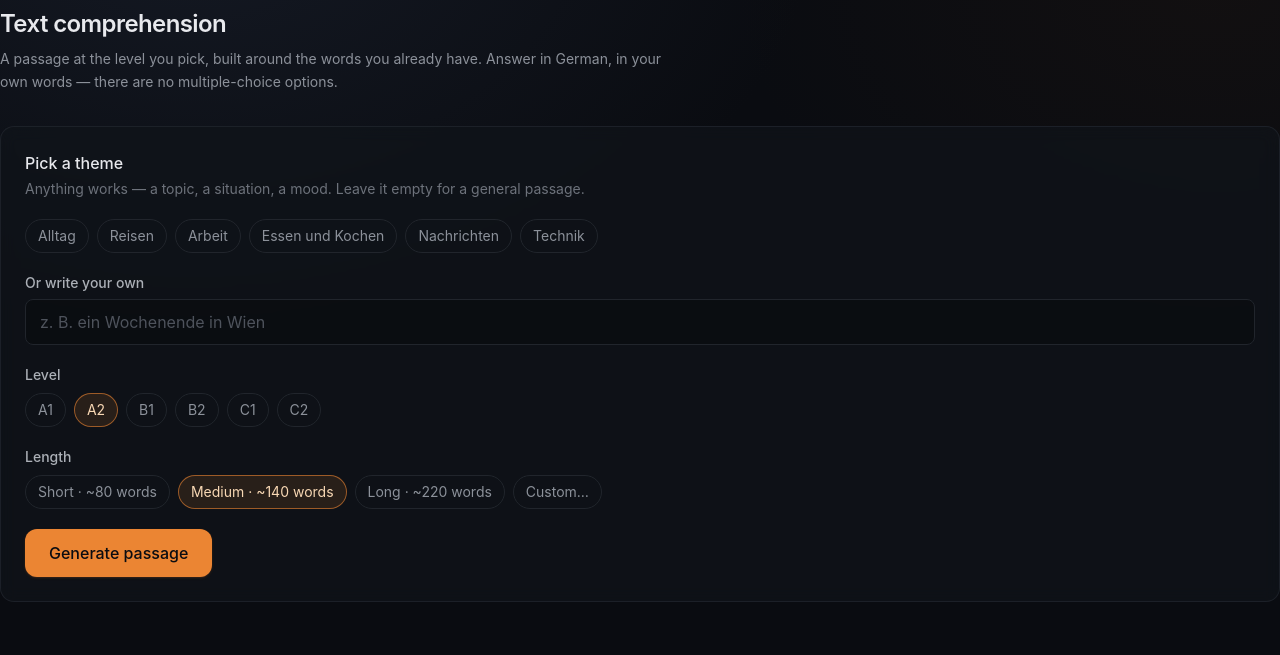
Test case: ComprehensionMode › resolves a typed inflected form and adds the dictionary form
Click the button "Reisen" at (132, 236), box [97,218,167,252]
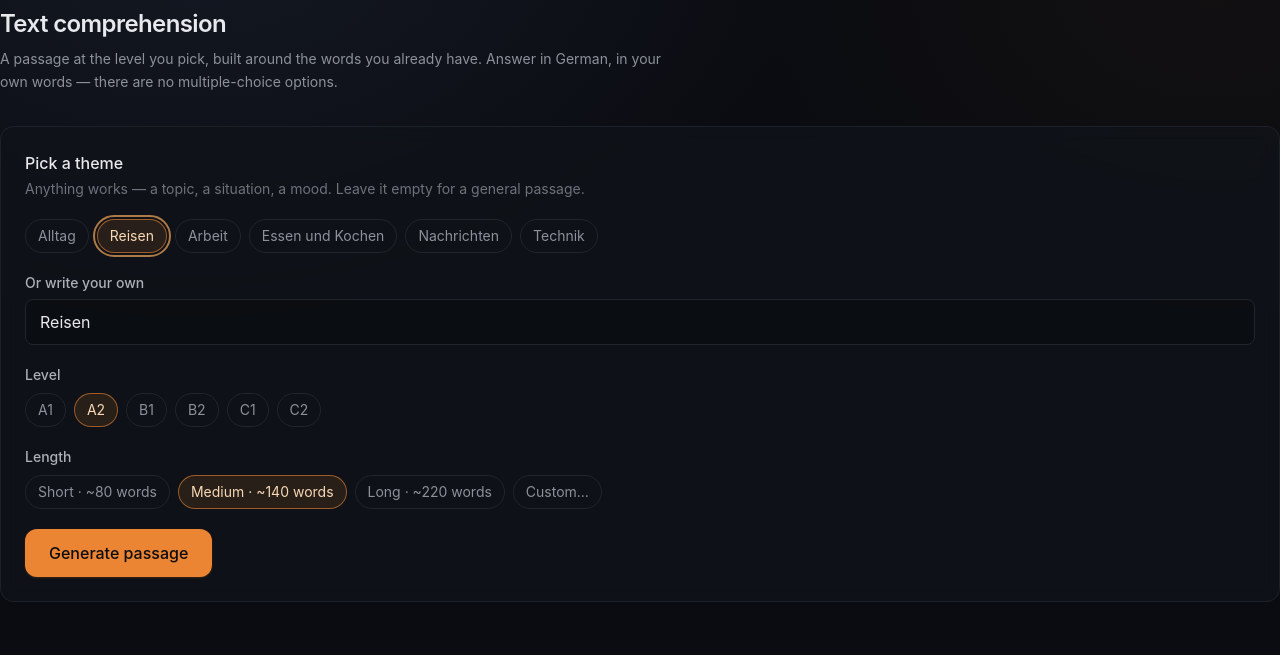
Click the button "Generate passage" at (119, 552), box [25,528,212,576]
(page scrolled)
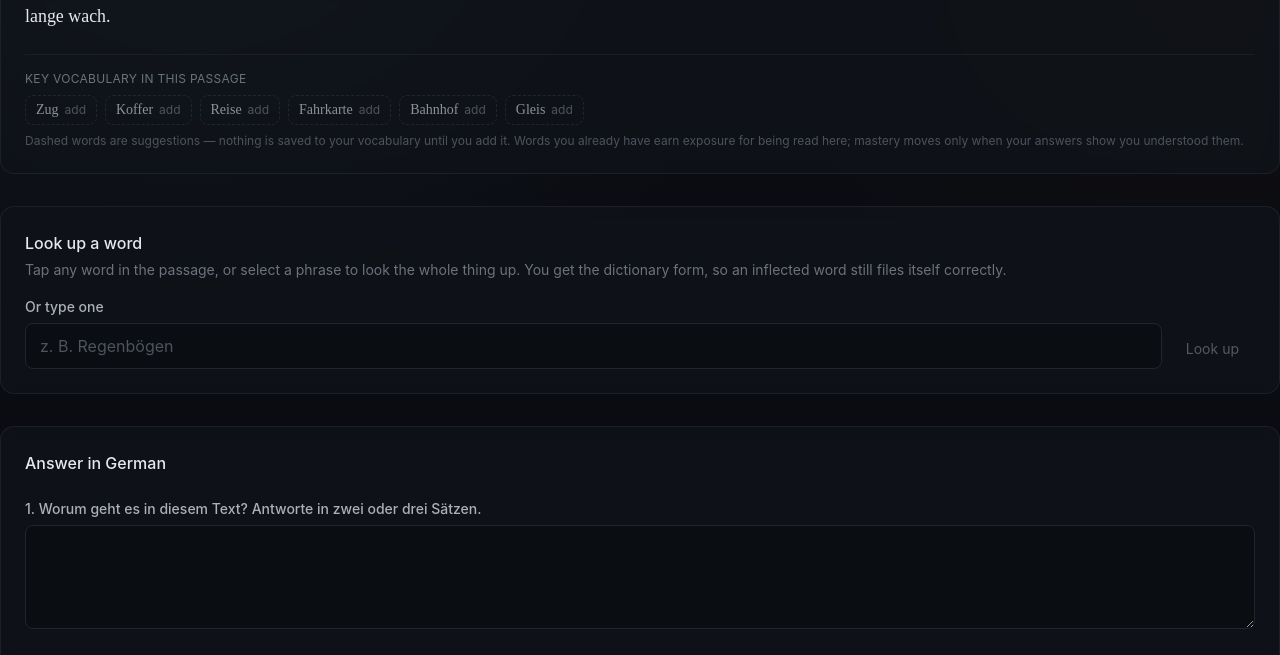
Check: the heading "Answer in German" is shown, box [25,453,166,473]
# Not in this passage at all, which is half the point of the text input.
Type "Küchen" into the field labelled "Or type one" at (593, 346), box [25,323,1162,369]
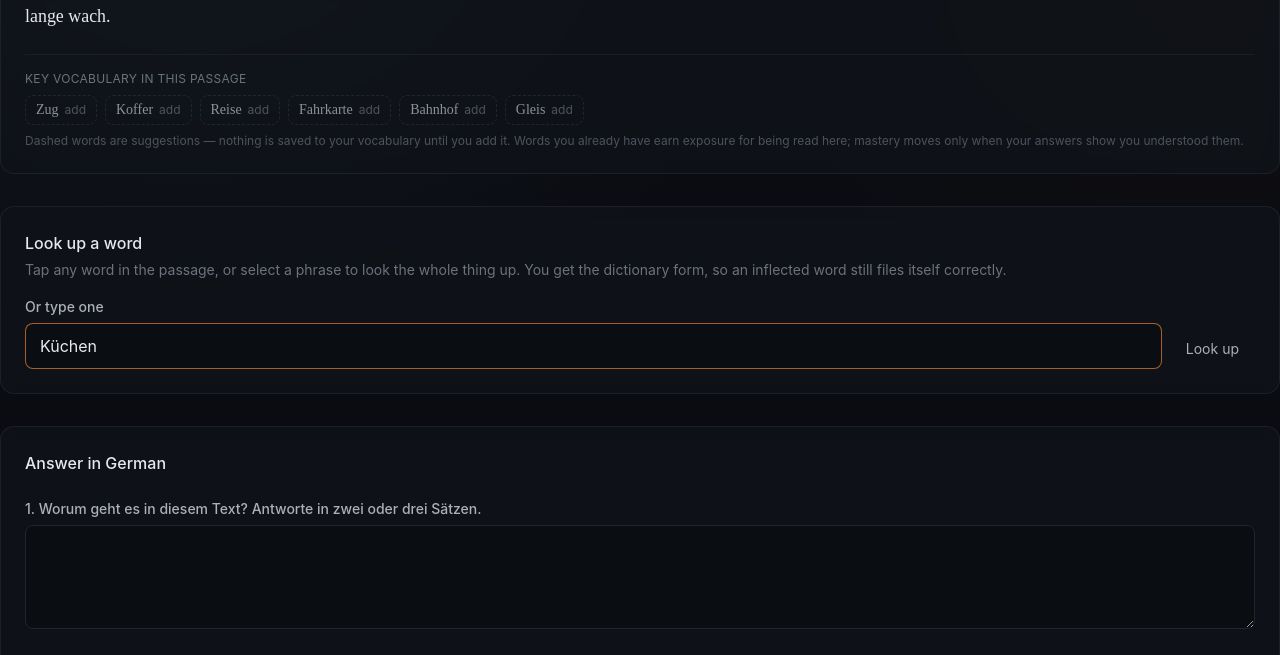
Click the button "Look up" at (1212, 349), box [1170,329,1255,369]
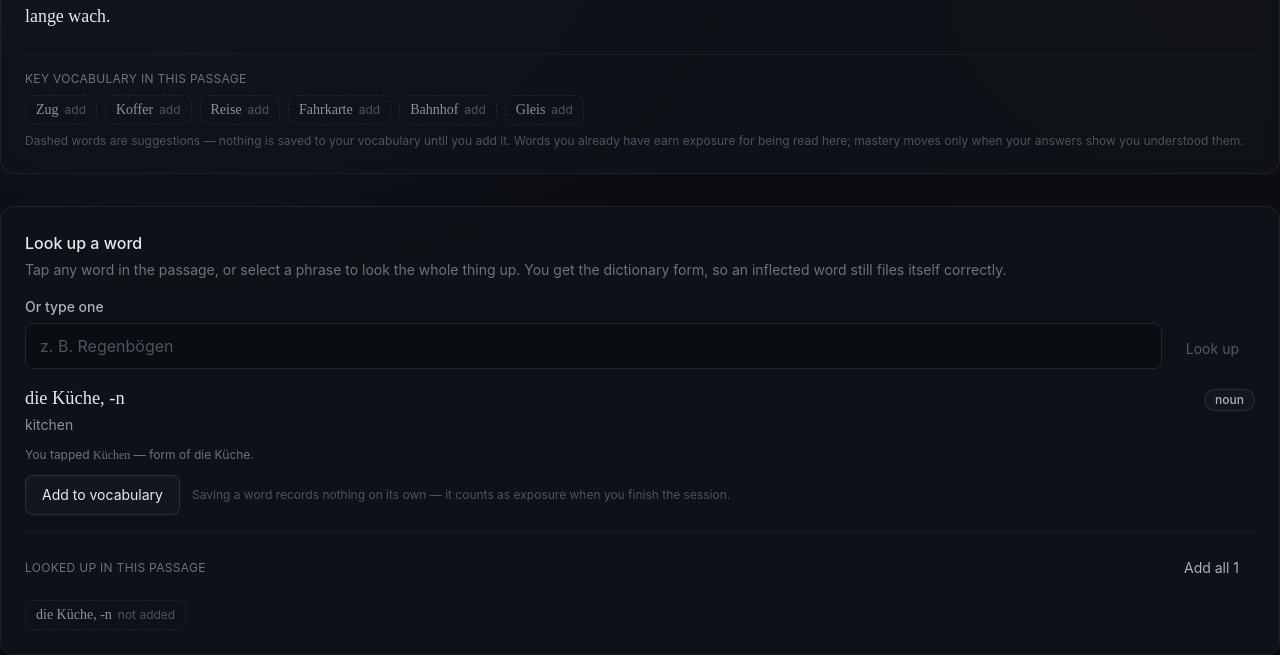
Check: the text "die Küche, -n" in the row of "noun" is shown, box [25,388,125,408]
Check: the text "kitchen" is shown, box [25,416,73,433]
Check: the text "You tapped Küchen — form of die Küche." is shown, box [25,447,254,462]
Click the button "Add to vocabulary" at (102, 495), box [25,475,180,515]
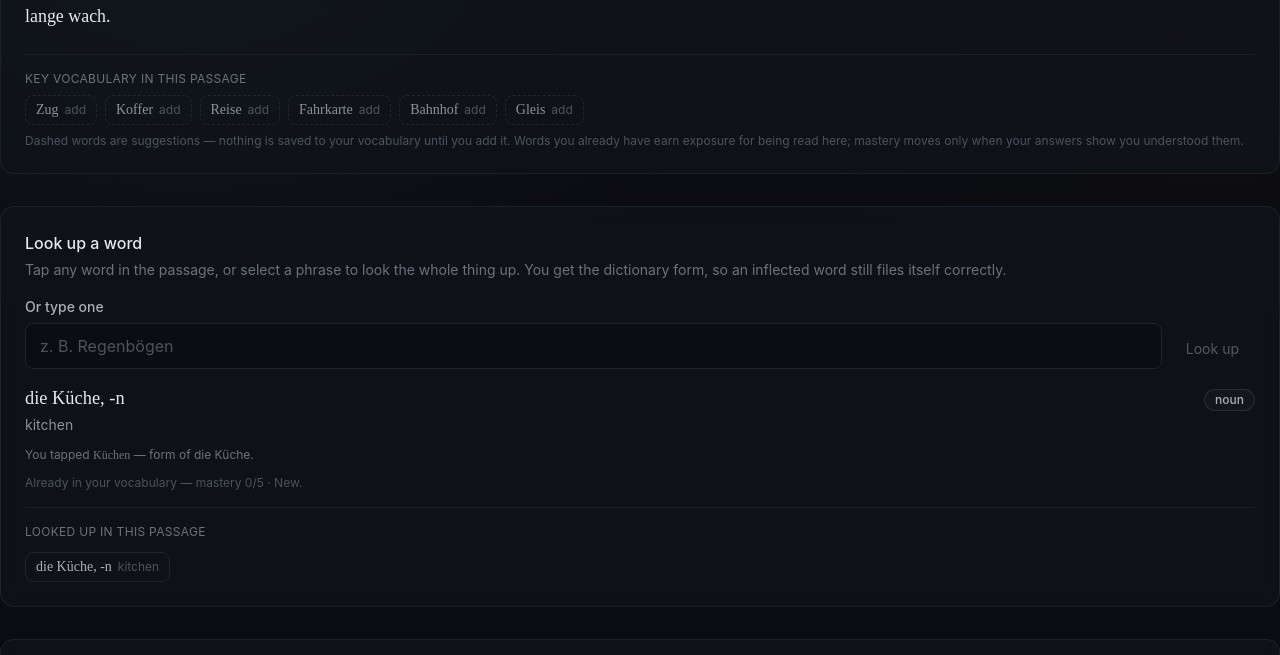
Check: the text "Already in your vocabulary — mastery 0/5 · New." is shown, box [25,475,302,490]
